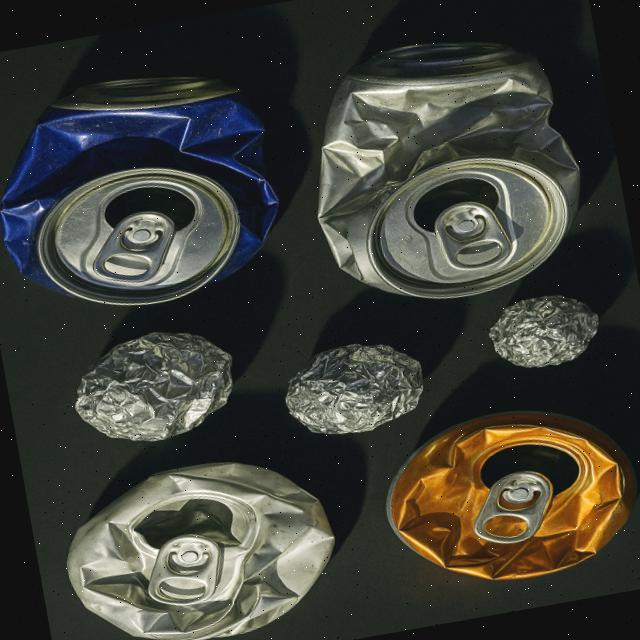aluminum: (290, 20, 612, 320), (0, 55, 297, 330), (50, 438, 359, 640), (374, 398, 636, 602)
